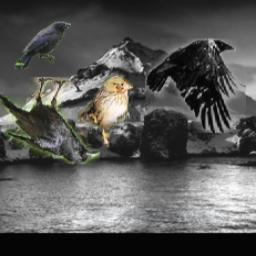Crow: (146, 39, 247, 134), (0, 78, 101, 165), (16, 21, 72, 69)
Sparrow: (78, 75, 133, 148)
